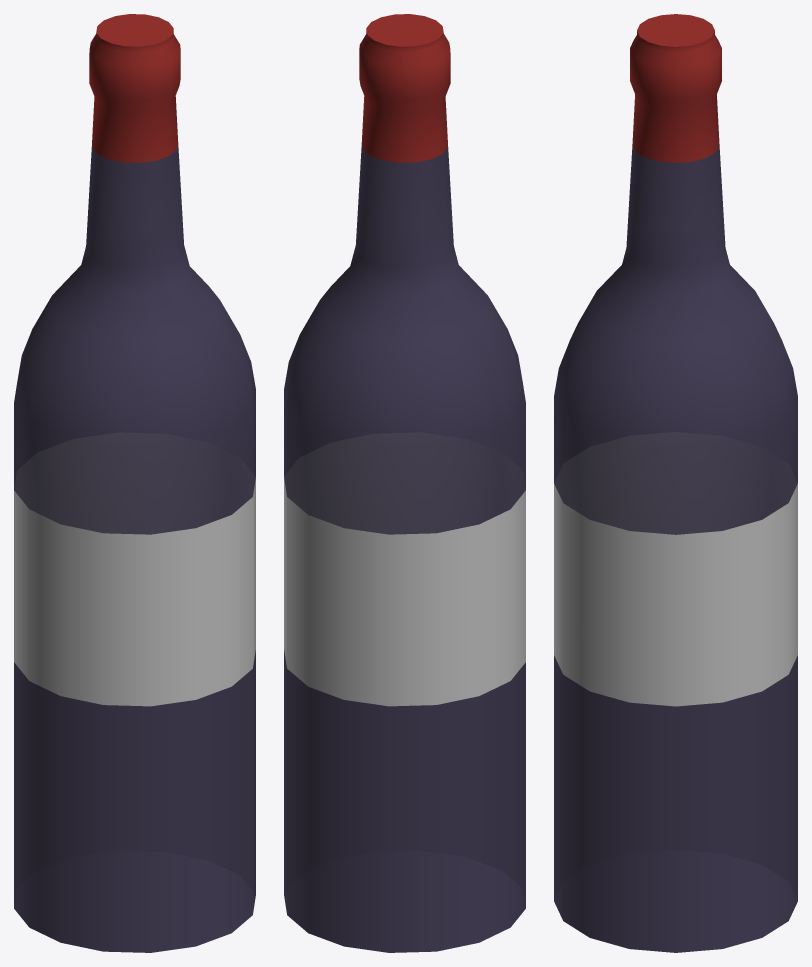
Rendered from Wine_K.fbx.
The picture shows the model from 3 angles, left to right: view 1: azimuth 30°, elevation 25°; view 2: azimuth 150°, elevation 25°; view 3: azimuth 270°, elevation 25°; orthographic projection.
Visible parts, largest first — view 1: Wine_K; view 2: Wine_K; view 3: Wine_K.
Boxes of the visible parts, left/top/right/bottom form: Wine_K: left=14, top=14, right=255, bottom=952; Wine_K: left=284, top=14, right=525, bottom=952; Wine_K: left=554, top=14, right=797, bottom=952.
Size of the model in its own units: 12.32 by 48.56 by 12.32.
